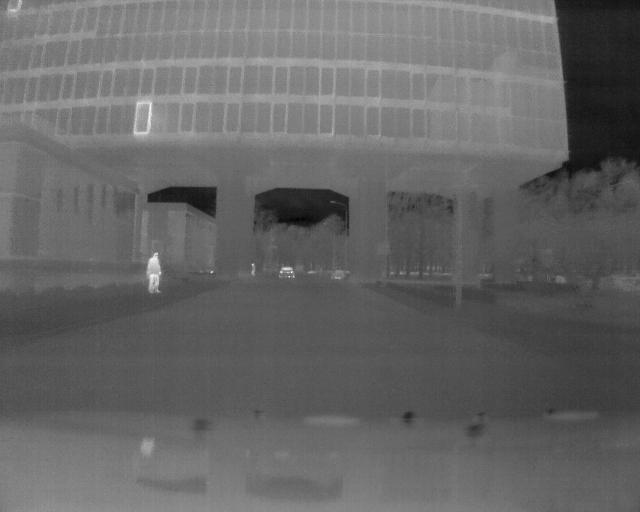car: (277, 263, 296, 279), (330, 267, 348, 281)
person: (143, 249, 166, 294), (249, 261, 257, 278)
